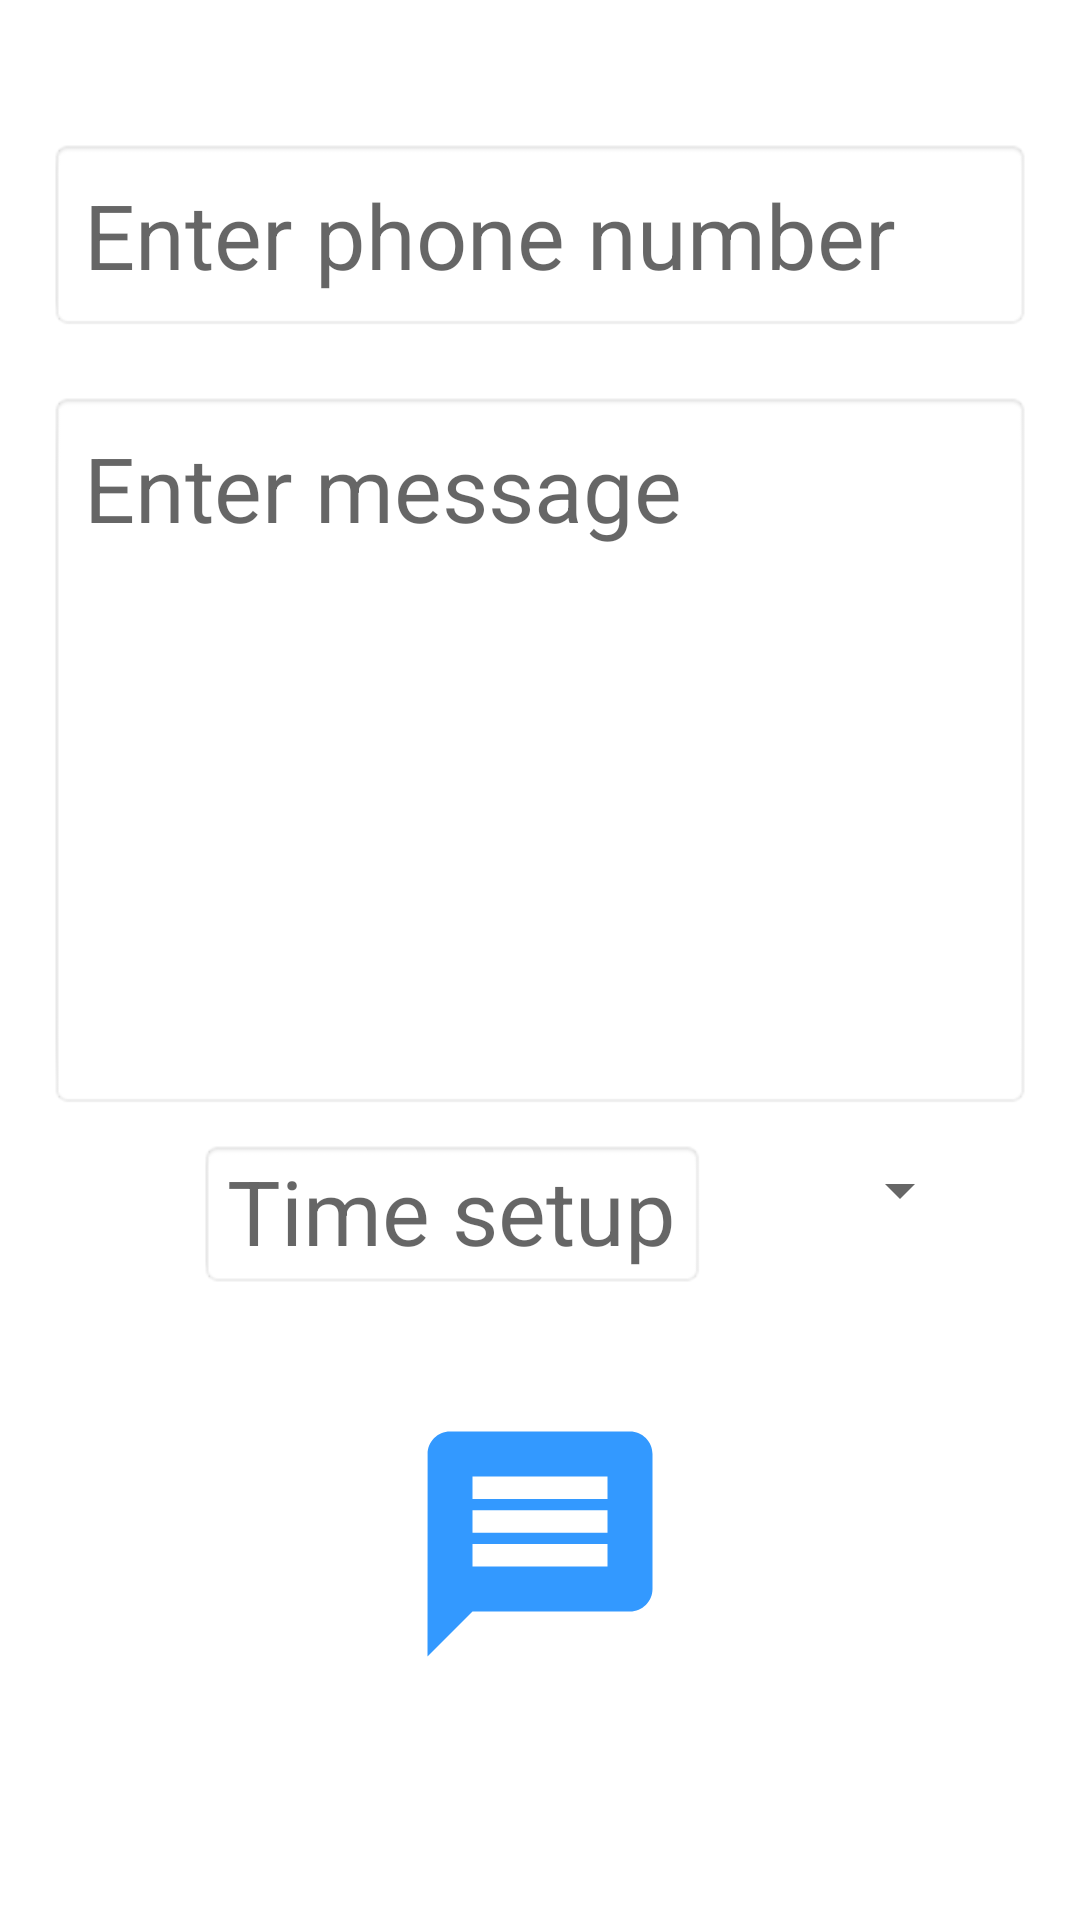

Icon bounding boxes for this 1080px×1920px phone screenshot, format (x1, y1, x2, y2):
message: (427, 1431, 653, 1656)
